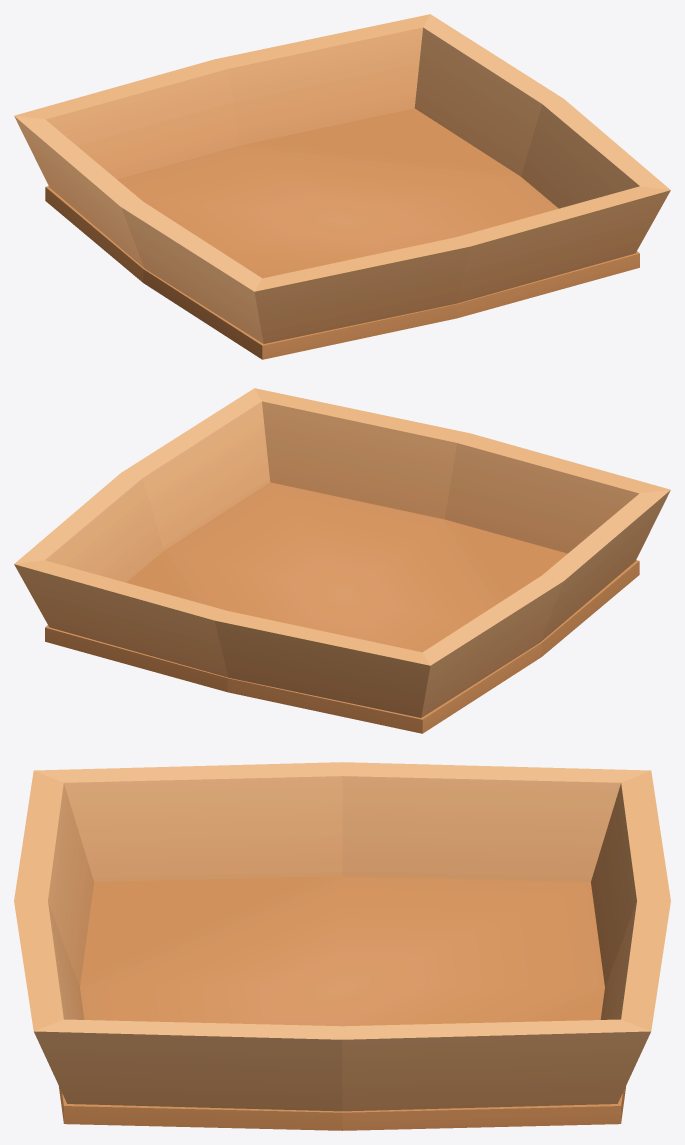
File: Box_Cardboard_Small_002.gltf
The picture shows the model from 3 angles, top to bottom: view 1: azimuth 30°, elevation 25°; view 2: azimuth 150°, elevation 25°; view 3: azimuth 270°, elevation 25°; orthographic projection. The views are drawn at different scales.
Parts seen in each view (by area): view 1: Box_Cardboard_Small_002_x; view 2: Box_Cardboard_Small_002_x; view 3: Box_Cardboard_Small_002_x.
Part boxes in pixels (x1,y1,x2,y2): Box_Cardboard_Small_002_x: (14, 14, 670, 359); Box_Cardboard_Small_002_x: (14, 388, 670, 733); Box_Cardboard_Small_002_x: (14, 762, 670, 1130).
Size of the model in its own units: 2 by 0.3514 by 2.
Materials: 1 (1 with a texture image).
